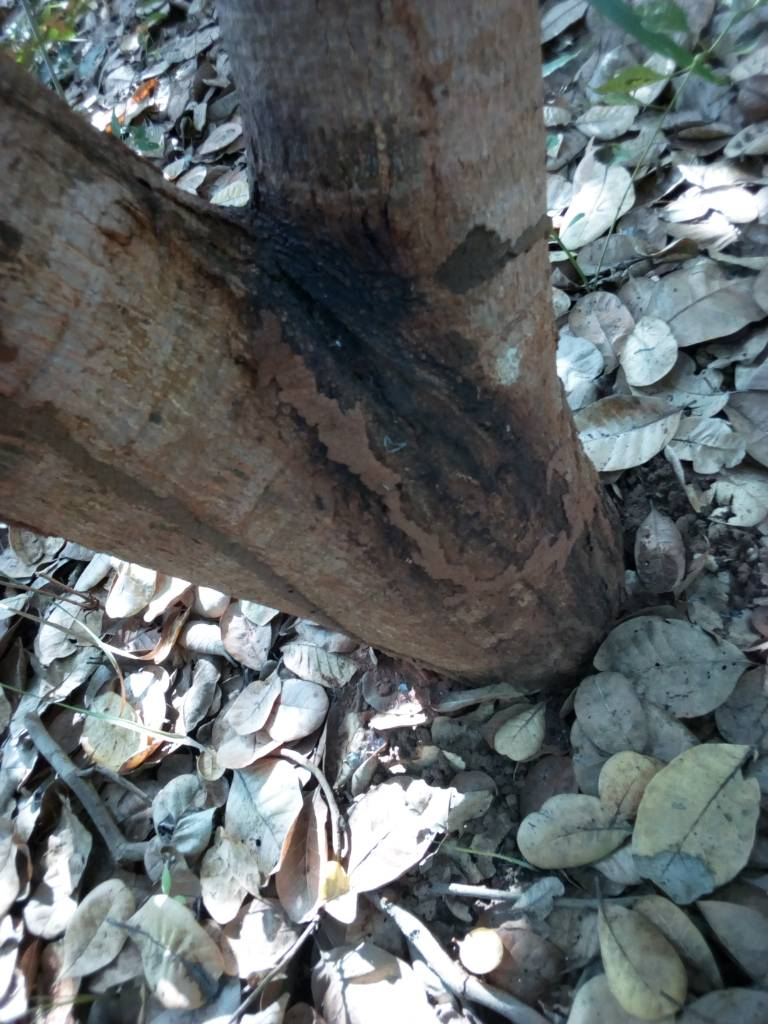Termites: (250, 349, 613, 605)
